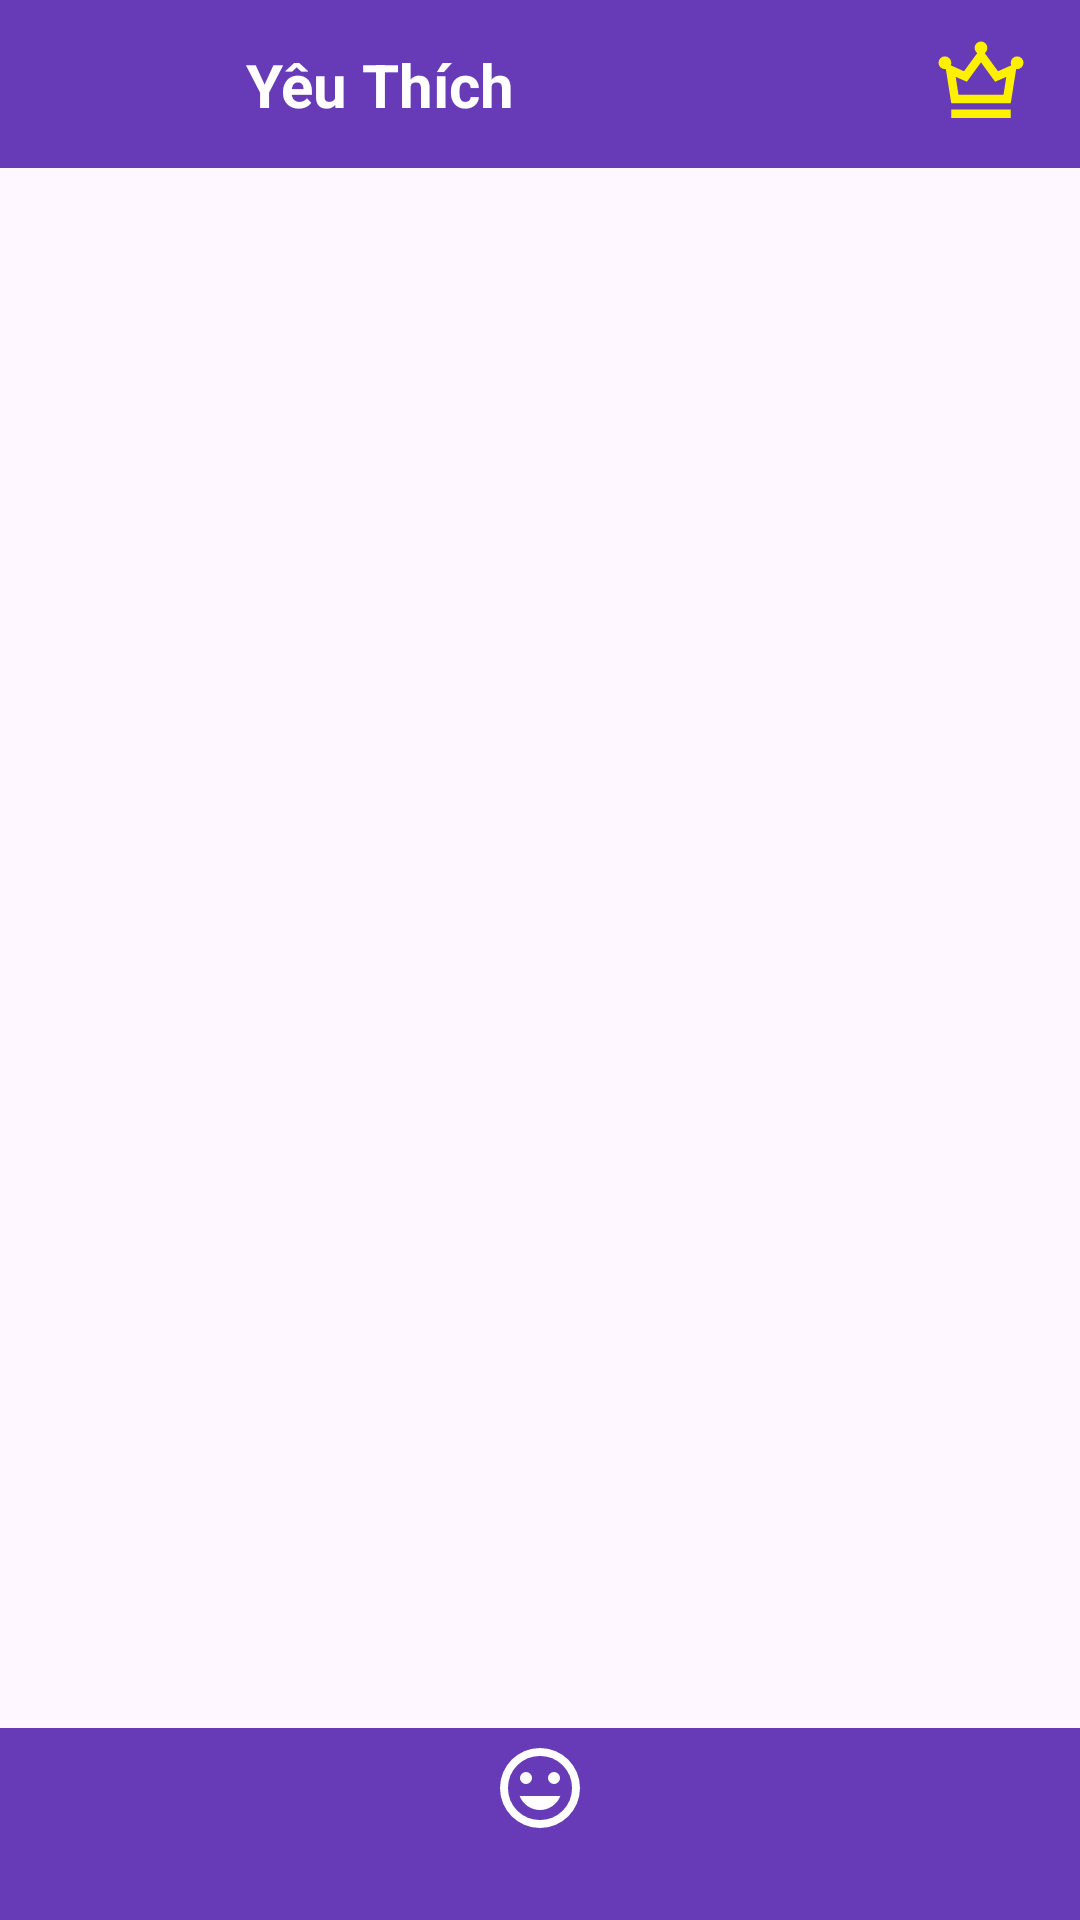

Icon click points for this 1080 x 1920 phone screenshot, format point (x, y):
crown: point (981, 79)
